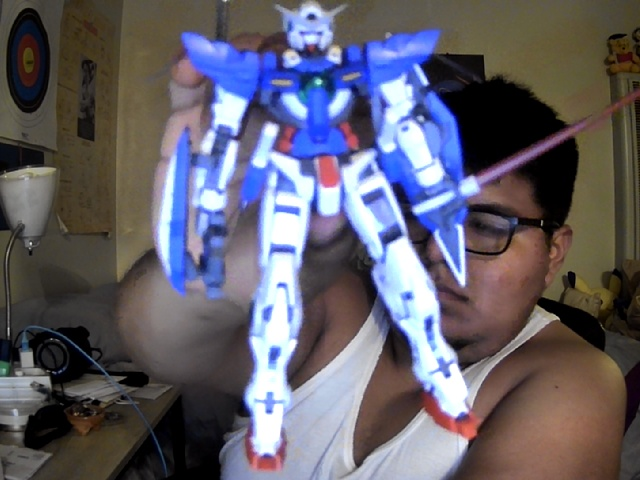Exia: (158, 1, 640, 472)
